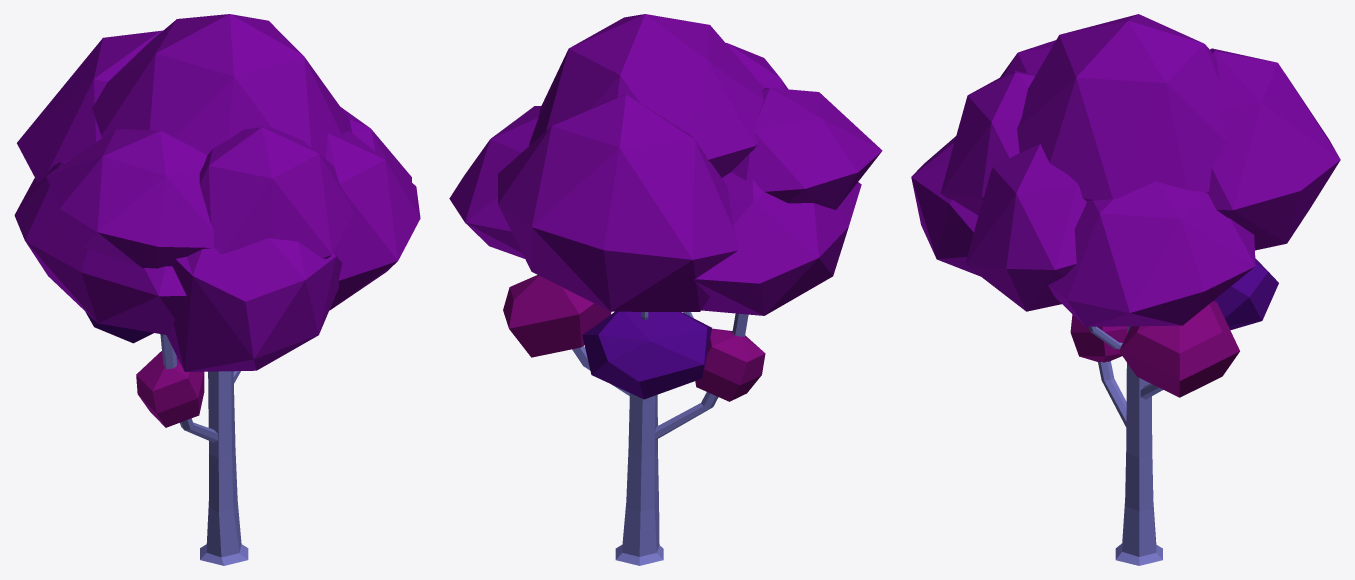
Rendered from magic_leaf_tree_purple.fbx.
3 views of the same model, side by side, from view 1: azimuth 30°, elevation 25°; view 2: azimuth 150°, elevation 25°; view 3: azimuth 270°, elevation 25° (orthographic).
Parts seen in each view (by area): view 1: pSphere13, pSphere11, pSphere14, pSphere15, pSphere8, pSphere9, pSphere16, pCylinder1, pSphere4, pSphere12, pCylinder3, pSphere2; view 2: pSphere16, pSphere13, pSphere8, pSphere14, pSphere2, pCylinder1, pSphere1, pSphere12, pSphere4, pCylinder3, pSphere15; view 3: pSphere13, pSphere12, pSphere16, pSphere9, pSphere15, pSphere1, pCylinder1, pSphere11, pSphere2, pSphere4, pSphere14, pCylinder3.
Part boxes in pixels (bbox=[...]): pSphere13: bbox=[92, 14, 351, 158]; pSphere11: bbox=[166, 238, 342, 371]; pSphere14: bbox=[46, 129, 213, 268]; pSphere15: bbox=[199, 126, 354, 258]; pSphere8: bbox=[14, 159, 186, 335]; pSphere9: bbox=[326, 131, 420, 310]; pSphere16: bbox=[17, 30, 162, 182]; pCylinder1: bbox=[200, 371, 248, 565]; pSphere4: bbox=[136, 351, 204, 427]; pSphere12: bbox=[341, 107, 411, 182]; pCylinder3: bbox=[160, 334, 217, 442]; pSphere2: bbox=[85, 312, 153, 343]; pSphere16: bbox=[498, 94, 738, 311]; pSphere13: bbox=[529, 14, 764, 177]; pSphere8: bbox=[693, 172, 861, 315]; pSphere14: bbox=[731, 88, 882, 209]; pSphere2: bbox=[582, 311, 711, 399]; pCylinder1: bbox=[615, 393, 663, 565]; pSphere1: bbox=[503, 275, 611, 357]; pSphere12: bbox=[449, 106, 541, 258]; pSphere4: bbox=[695, 328, 765, 401]; pCylinder3: bbox=[655, 313, 748, 439]; pSphere15: bbox=[726, 43, 787, 89]; pSphere13: bbox=[1017, 14, 1226, 201]; pSphere12: bbox=[1048, 181, 1255, 326]; pSphere16: bbox=[1208, 48, 1340, 250]; pSphere9: bbox=[965, 144, 1086, 311]; pSphere15: bbox=[941, 70, 1035, 215]; pSphere1: bbox=[1119, 301, 1239, 397]; pCylinder1: bbox=[1115, 326, 1162, 565]; pSphere11: bbox=[911, 136, 980, 276]; pSphere2: bbox=[1213, 258, 1278, 330]; pSphere4: bbox=[1070, 314, 1126, 362]; pSphere14: bbox=[1000, 40, 1055, 77]; pCylinder3: bbox=[1098, 361, 1126, 426].
Bounding box in the file's own units: 18.06 × 24.95 × 18.2.
